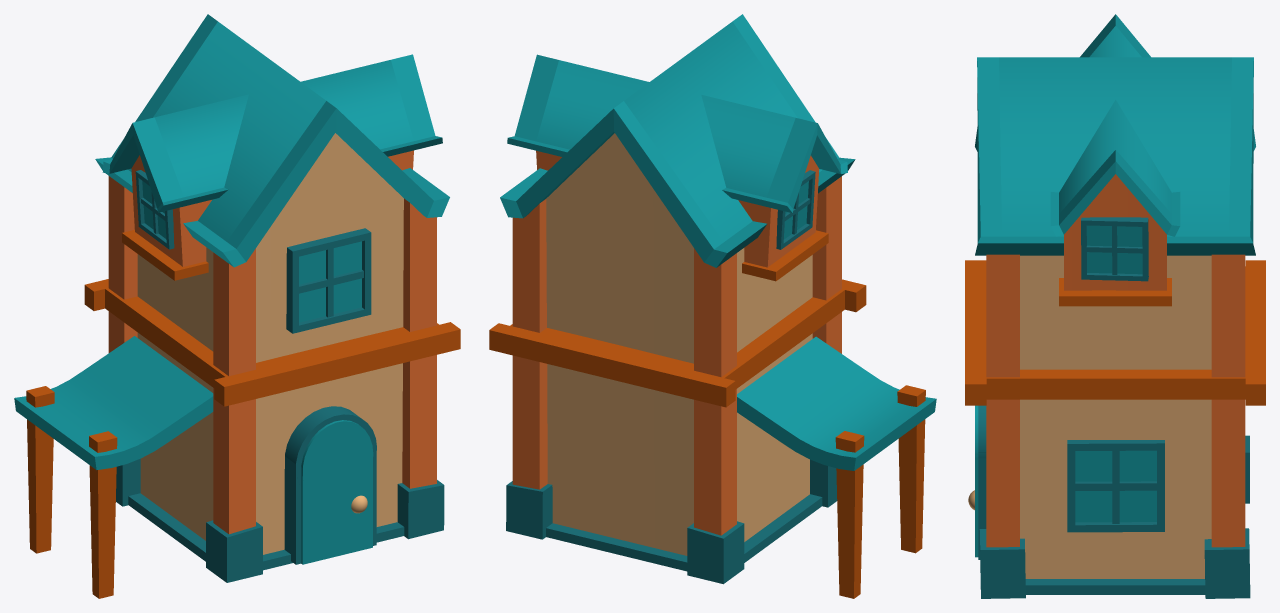
File: HOUSE 1.fbx
3 renders of one model, left to right at view 1: azimuth 30°, elevation 25°; view 2: azimuth 150°, elevation 25°; view 3: azimuth 270°, elevation 25°, orthographic. The views are drawn at different scales.
Parts seen in each view (by area): view 1: pCube1 (×2), pCube3 (×2), pCube10, pCube4, pCylinder3, pCube5, pCube18, pCylinder2, pCube9, pCube7, pCube8, pCube12 (+4 smaller); view 2: pCube1 (×2), pCube10, pCube3 (×2), pCube7, pCube6, pCube2, pCube8, pCube4, pCube9, pCube15, pCube14, pCube19 (+1 smaller); view 3: pCube1 (×2), pCube3 (×2), pCube6, pCube5, pCube21, pCube20, pCube2, pCube13, pCube14, pCylinder2, pCylinder3.
Part boxes in pixels (<box>): pCube1 (×2): <box>95,14,449,554</box>; pCube3 (×2): <box>84,230,460,406</box>; pCube10: <box>14,336,213,469</box>; pCube4: <box>213,248,255,534</box>; pCylinder3: <box>301,420,373,564</box>; pCube5: <box>402,198,436,488</box>; pCube18: <box>286,228,371,333</box>; pCylinder2: <box>284,406,376,564</box>; pCube9: <box>89,431,117,598</box>; pCube7: <box>108,176,137,352</box>; pCube8: <box>26,386,54,553</box>; pCube12: <box>206,520,262,582</box>; pCube1 (×2): <box>500,14,855,555</box>; pCube10: <box>737,336,936,470</box>; pCube3 (×2): <box>489,230,866,407</box>; pCube7: <box>694,248,736,535</box>; pCube6: <box>512,199,547,489</box>; pCube2: <box>546,494,822,571</box>; pCube8: <box>835,431,864,598</box>; pCube4: <box>812,176,841,353</box>; pCube9: <box>897,385,925,553</box>; pCube15: <box>687,521,744,584</box>; pCube14: <box>506,481,552,539</box>; pCube19: <box>776,170,815,249</box>; pCube1 (×2): <box>975,14,1255,578</box>; pCube3 (×2): <box>965,260,1265,405</box>; pCube6: <box>1211,254,1245,547</box>; pCube5: <box>986,254,1019,547</box>; pCube21: <box>1067,440,1164,532</box>; pCube20: <box>1081,217,1148,281</box>; pCube2: <box>1025,579,1205,594</box>; pCube13: <box>979,529,1025,598</box>; pCube14: <box>1204,528,1250,598</box>; pCylinder2: <box>978,405,986,559</box>; pCylinder3: <box>975,405,978,557</box>.
Size of the model in its own units: 14.35 by 17.53 by 9.63.
